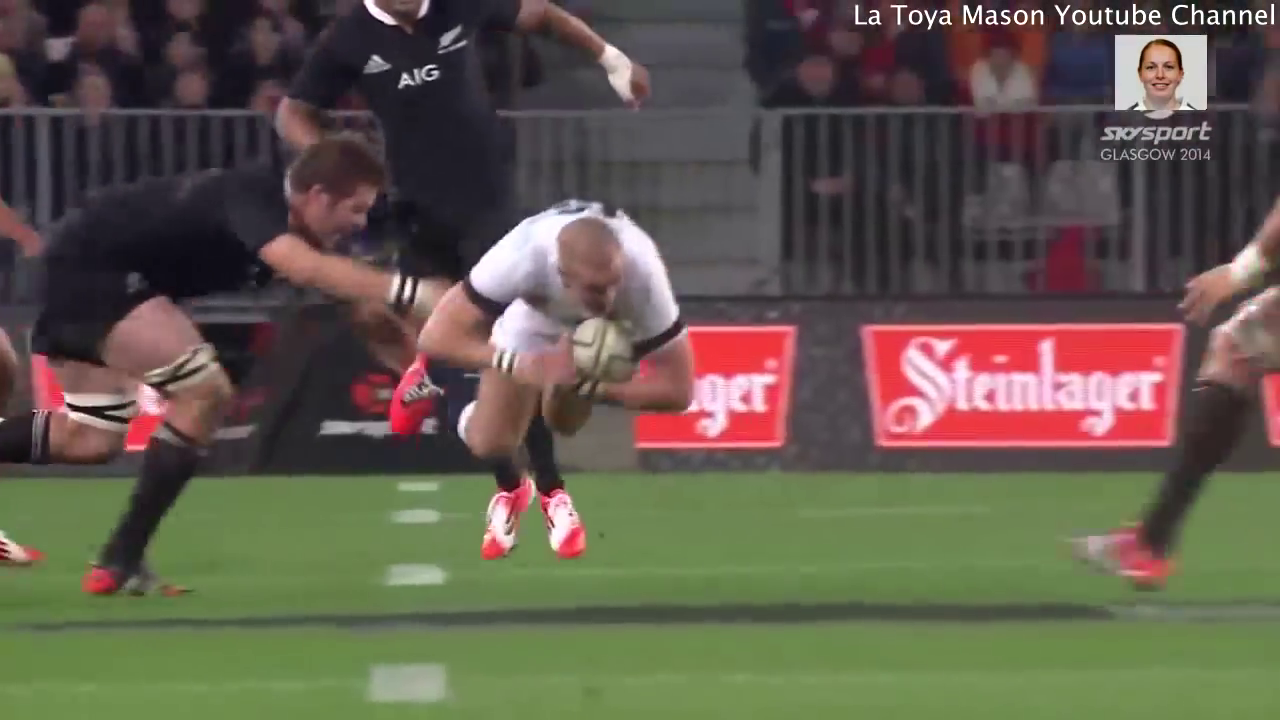ball: (559, 308, 654, 394)
player: (1, 130, 412, 610), (375, 189, 705, 467)
